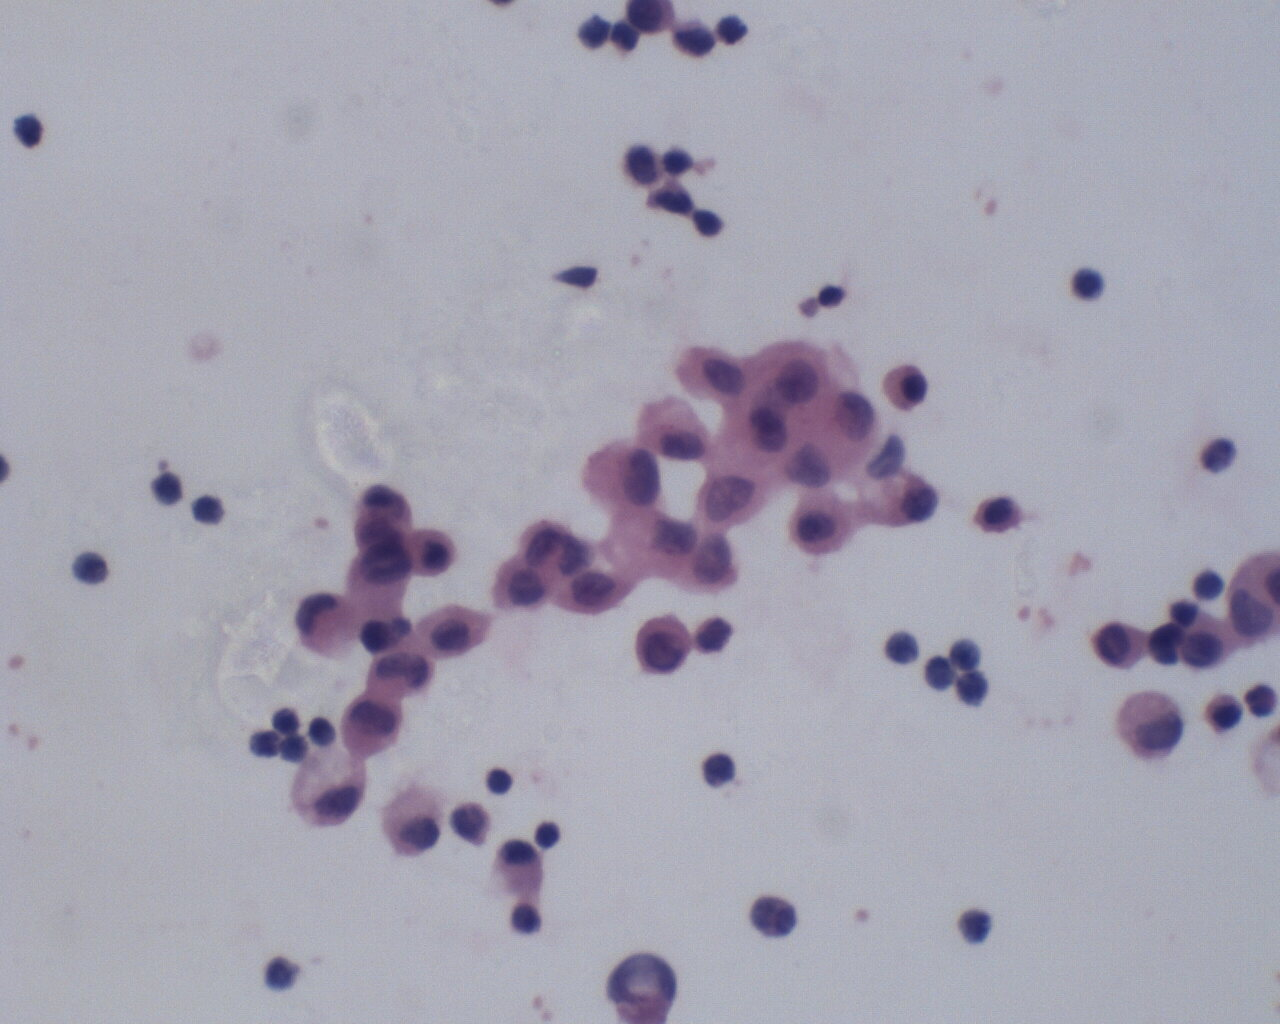ab: (630, 609, 694, 676), (1089, 612, 1146, 675)
lymph: (694, 748, 745, 797), (66, 549, 113, 592), (1070, 258, 1113, 301), (7, 107, 48, 148), (885, 627, 921, 667), (484, 765, 519, 800)
meso: (583, 435, 666, 517), (785, 489, 855, 560), (336, 696, 408, 764), (414, 602, 494, 659), (491, 555, 555, 619), (404, 523, 460, 583), (879, 358, 933, 413)
